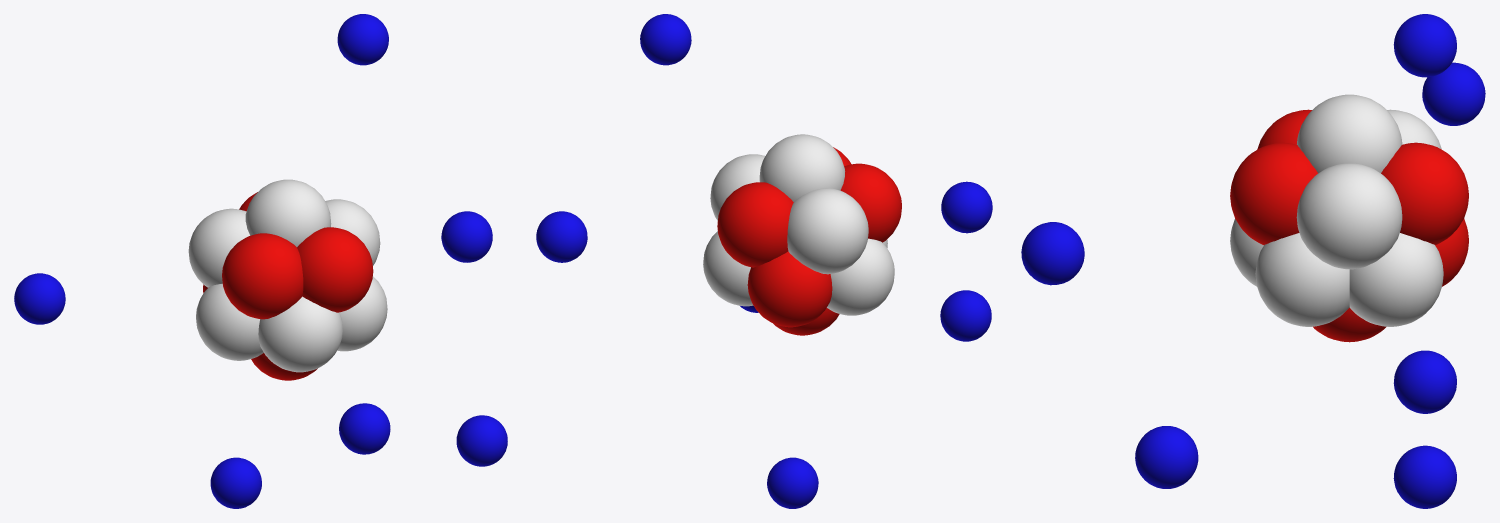
Rendered from atom.glb.
The picture shows the model from 3 angles, left to right: view 1: azimuth 30°, elevation 25°; view 2: azimuth 150°, elevation 25°; view 3: azimuth 270°, elevation 25°; orthographic projection. The views are drawn at different scales.
Visible parts, largest first — view 1: Sphère.008, Sphère.007, Sphère.003, Sphère.012, Sphère.004, Sphère.009, Sphère.002, Sphère.014, Sphère.015, Sphère.018, Sphère.017, Sphère.013 (+3 smaller); view 2: Sphère.009, Sphère.010, Sphère.005, Sphère.012, Sphère.004, Sphère.008, Sphère.006, Sphère.018, Sphère.013, Sphère.014, Sphère.020, Sphère.015 (+2 smaller); view 3: Sphère.011, Sphère.006, Sphère.002, Sphère.010, Sphère.007, Sphère.012, Sphère.018, Sphère.020, Sphère.013, Sphère.015, Sphère.017, Sphère.014 (+5 smaller).
Part boxes in pixels (x1,y1,x2,y2): Sphère.008: [222, 233, 303, 319]; Sphère.007: [297, 227, 373, 312]; Sphère.003: [258, 296, 342, 372]; Sphère.012: [245, 179, 331, 246]; Sphère.004: [196, 283, 263, 360]; Sphère.009: [188, 208, 249, 287]; Sphère.002: [337, 276, 387, 351]; Sphère.014: [14, 273, 65, 324]; Sphère.015: [210, 457, 261, 508]; Sphère.018: [441, 211, 492, 262]; Sphère.017: [456, 415, 507, 466]; Sphère.013: [339, 403, 390, 454]; Sphère.009: [787, 188, 868, 274]; Sphère.010: [717, 182, 793, 267]; Sphère.005: [747, 251, 832, 327]; Sphère.012: [759, 134, 845, 201]; Sphère.004: [827, 238, 894, 315]; Sphère.008: [840, 163, 901, 242]; Sphère.006: [703, 231, 753, 306]; Sphère.018: [536, 211, 587, 262]; Sphère.013: [941, 181, 992, 233]; Sphère.014: [940, 290, 991, 341]; Sphère.020: [640, 14, 691, 65]; Sphère.015: [767, 457, 818, 508]; Sphère.011: [1296, 163, 1402, 269]; Sphère.006: [1349, 233, 1443, 326]; Sphère.002: [1255, 233, 1349, 326]; Sphère.010: [1381, 142, 1468, 245]; Sphère.007: [1230, 142, 1317, 244]; Sphère.012: [1297, 94, 1402, 173]; Sphère.018: [1393, 350, 1456, 413]; Sphère.020: [1393, 14, 1456, 77]; Sphère.013: [1021, 222, 1084, 285]; Sphère.015: [1393, 445, 1456, 508]; Sphère.017: [1135, 426, 1198, 488]; Sphère.014: [1422, 62, 1485, 125].
Size of the model in its own units: 8.38 by 7.99 by 5.95.
